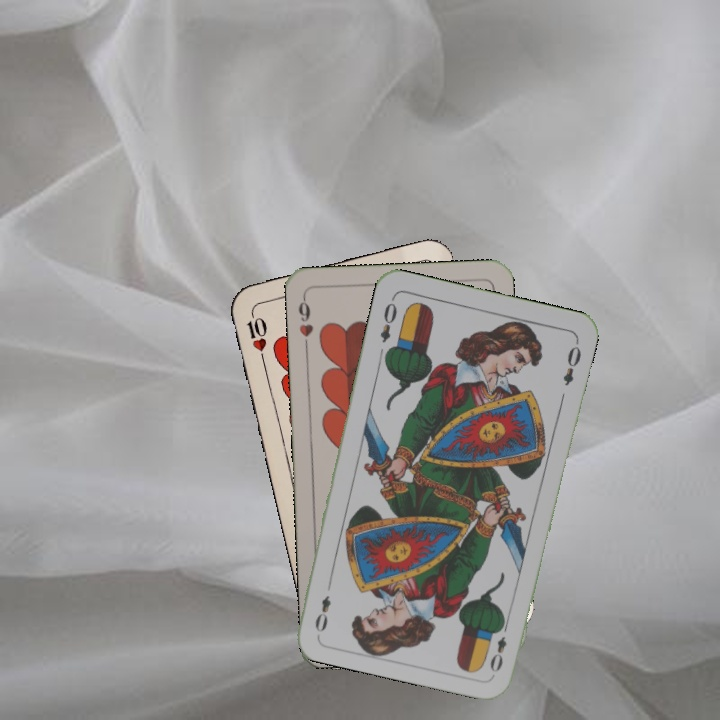EO: (486, 617, 511, 675), (376, 293, 400, 345)
H10: (242, 306, 270, 365)
H9: (294, 292, 316, 352)
